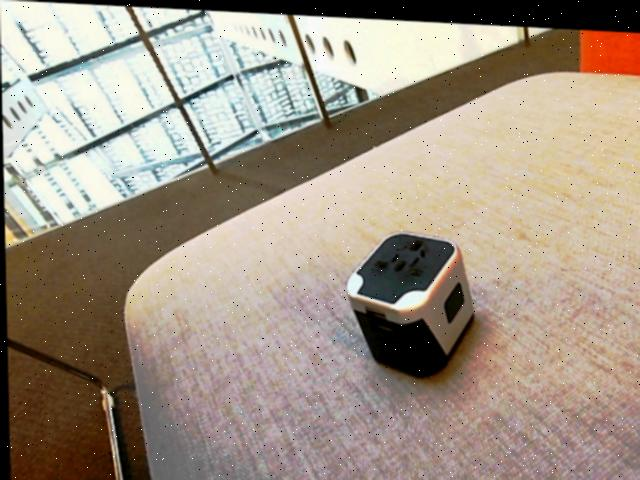adapter: (343, 224, 473, 375)
